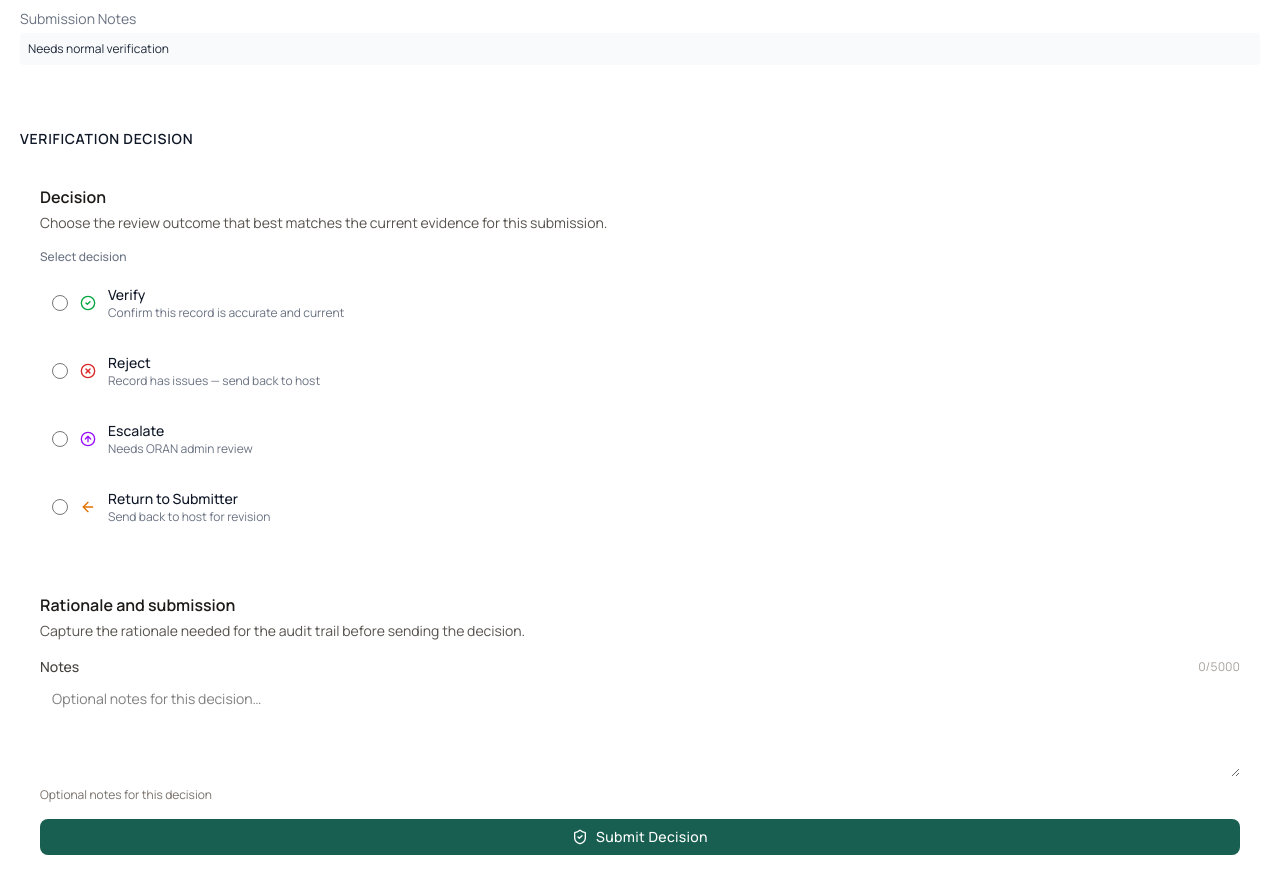
Test: community admin verify page › requires notes for escalation and submits once notes are provided
(page scrolled)
Click the radio button labelled "Escalate Needs ORAN admin review" at (60, 439), box [52,431,68,447]
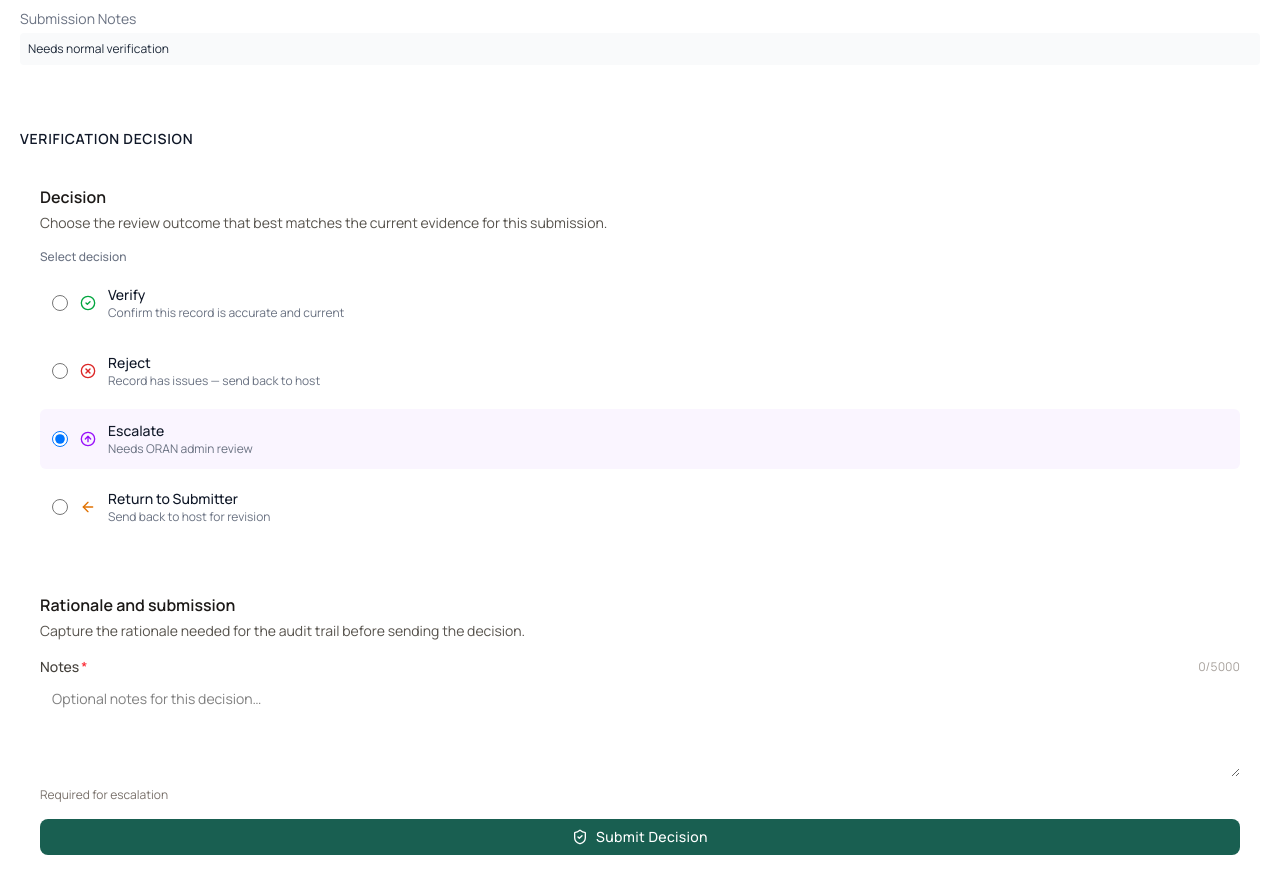
Expected: the button "Submit Decision" is disabled, [40,819,1240,855]
Type "  Needs second-level review  " into the text box labelled "Notes*" at (640, 729), box [40,681,1240,777]
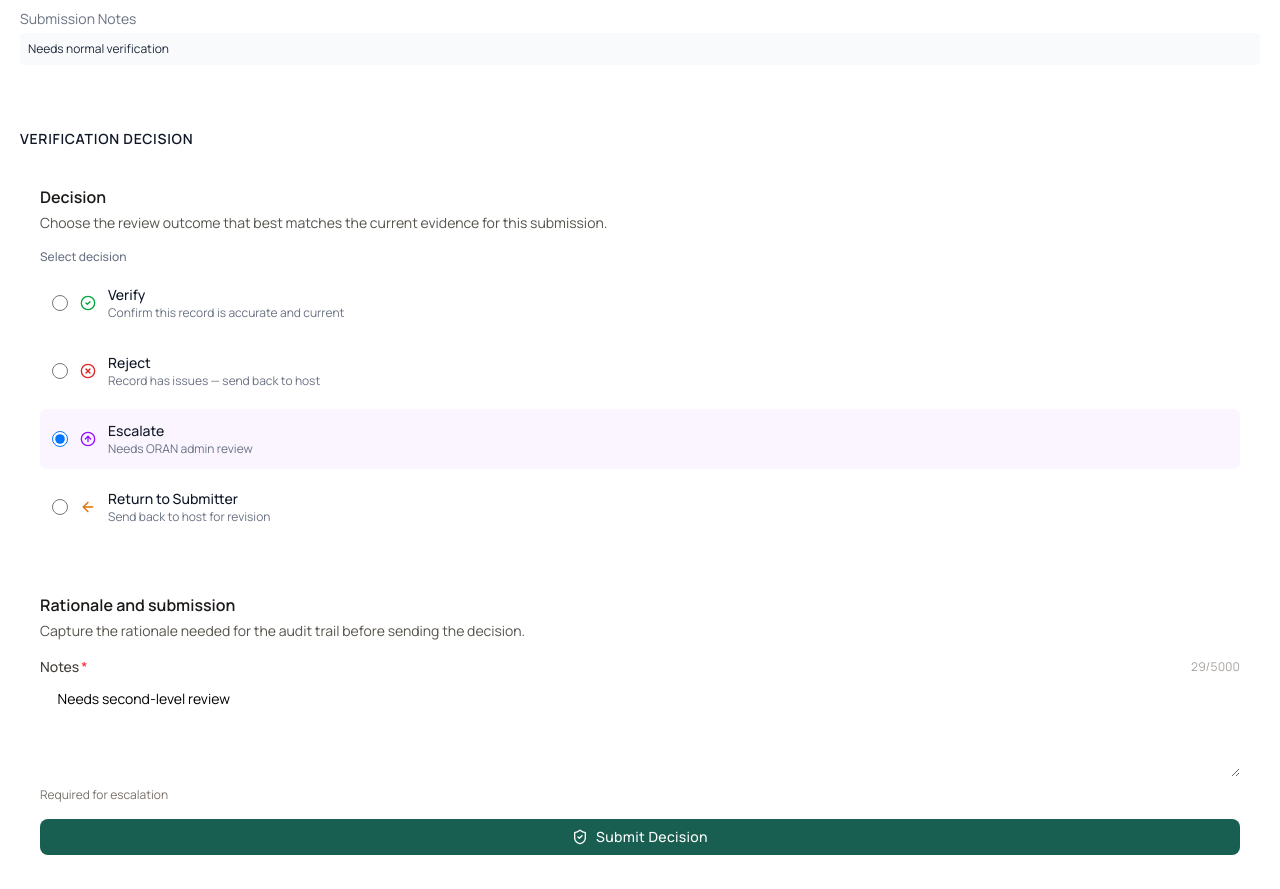
Click the button "Submit Decision" at (640, 837), box [40,819,1240,855]
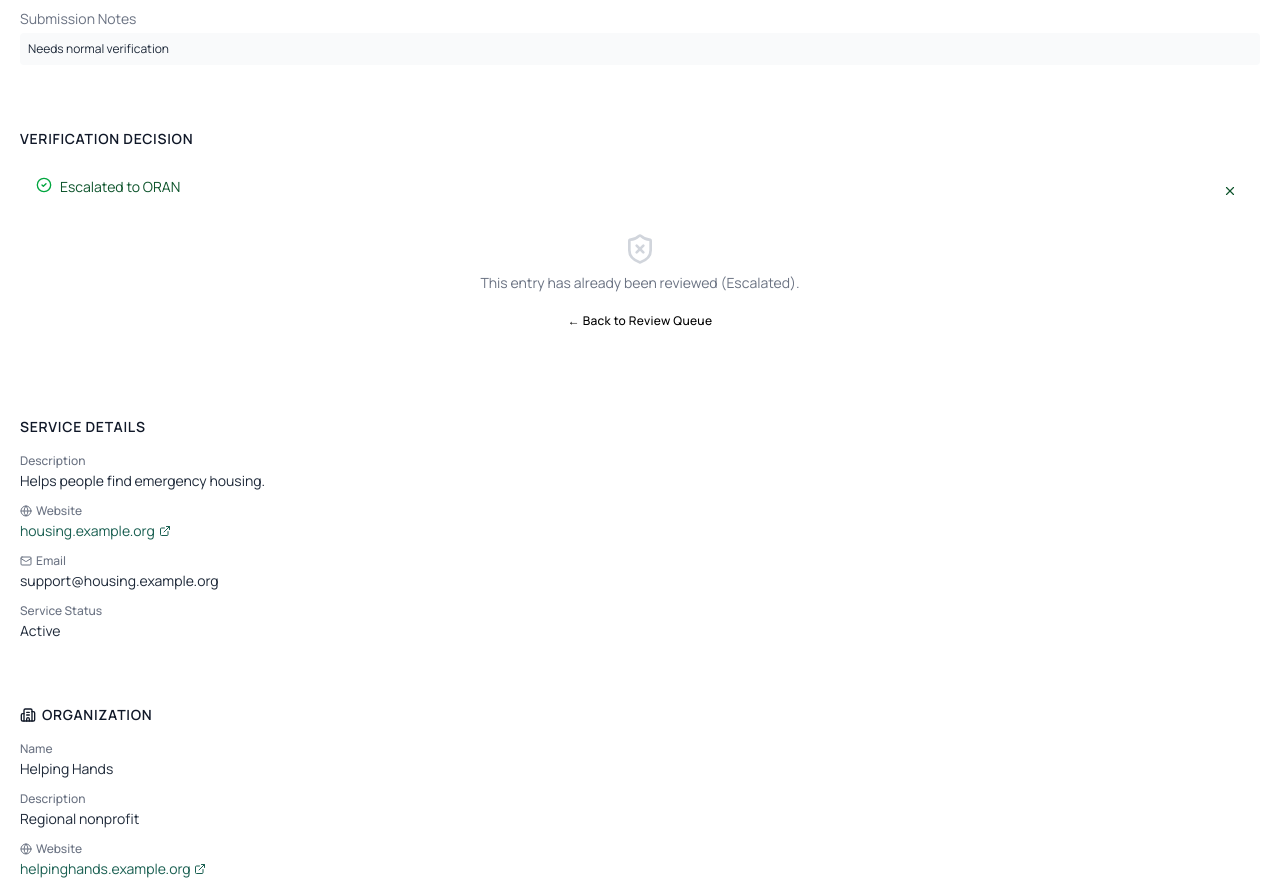
Result: the text "Escalated to ORAN" is shown at [60,177,180,196]
